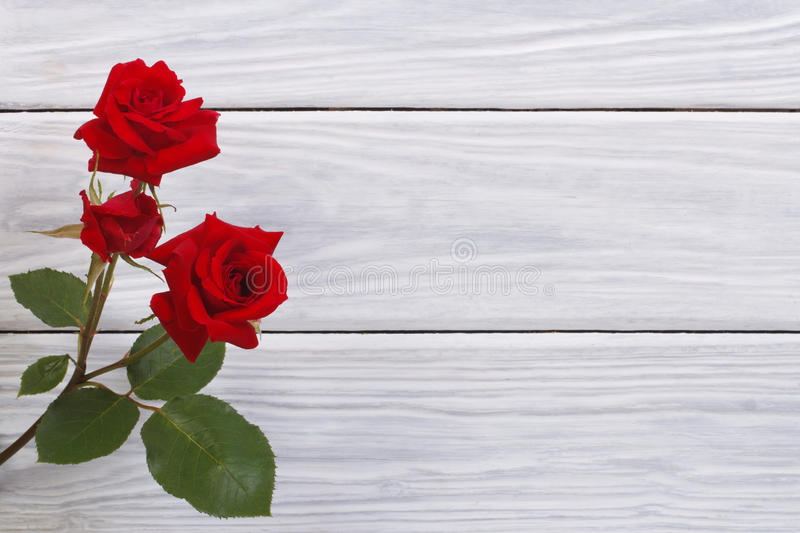RedRose: (69, 42, 252, 201), (157, 214, 302, 349)
